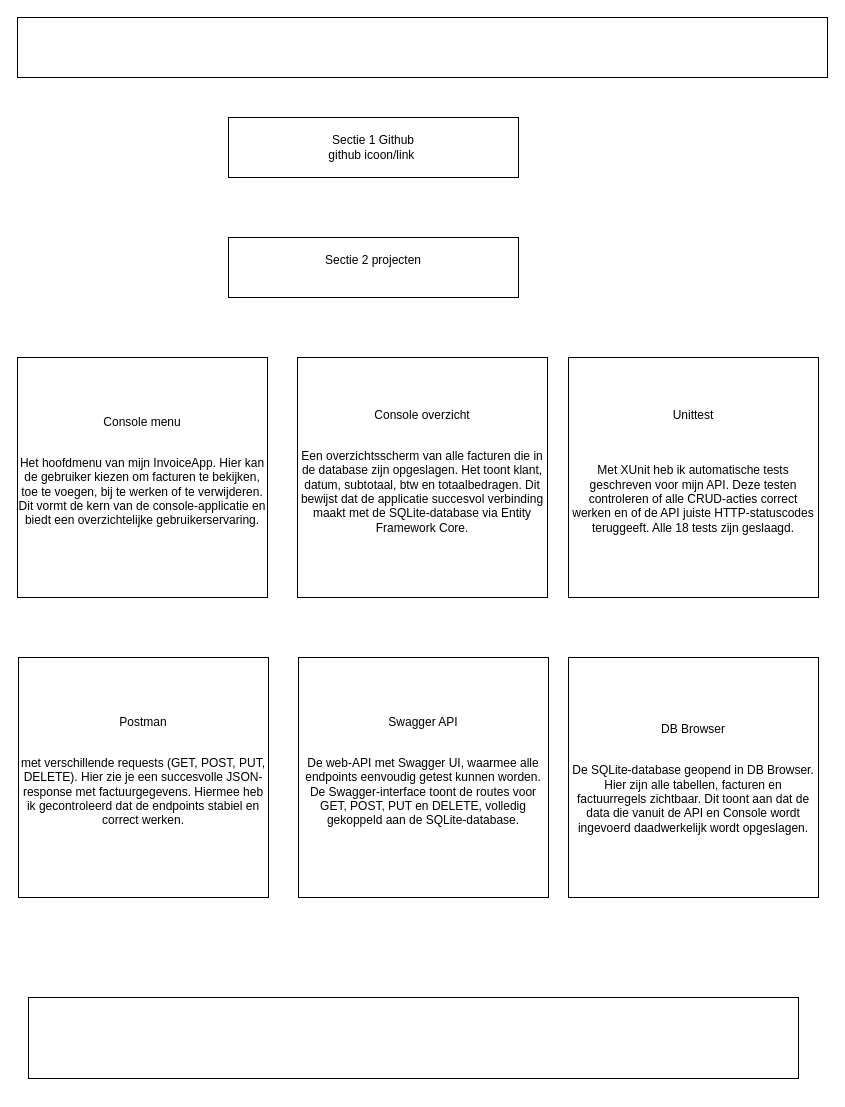
Image size: 845x1107. Some labels were removed from this diagram. Here are the shapes that lost their labels. From the top down, the box of each, then its label:
(16, 16, 828, 78): HEADER | [Logo] Home | Over mij | Opleidingen | Werkervaring | ...
(28, 996, 798, 1078): FOOTER Tekst + Social Icons (Contact + GitHub)
